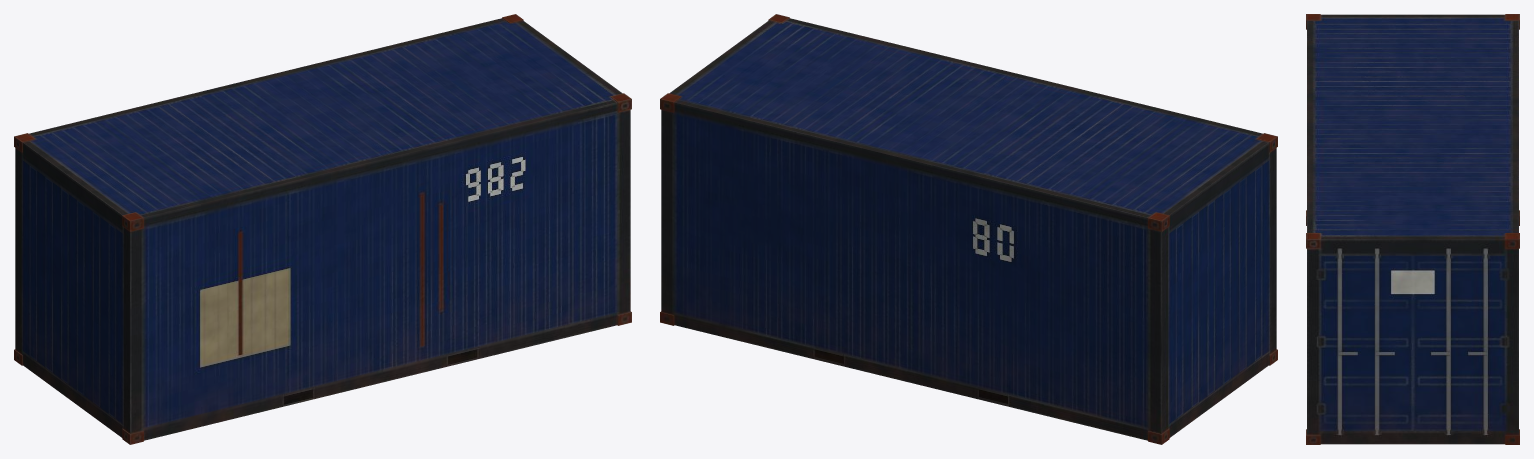
The model's file is shipping_container.glb.
3 renders of one model, left to right at view 1: azimuth 30°, elevation 25°; view 2: azimuth 150°, elevation 25°; view 3: azimuth 270°, elevation 25°, orthographic. The views are drawn at different scales.
Parts seen in each view (by area): view 1: shipping_container; view 2: shipping_container; view 3: shipping_container.
Part boxes in pixels (x1=…): shipping_container: x1=14, y1=14, x2=631, y2=444; shipping_container: x1=660, y1=14, x2=1277, y2=444; shipping_container: x1=1306, y1=14, x2=1519, y2=444.
Bounding box in the file's own units: 6.11 × 2.6 × 2.45.
Materials: 1 (1 with a texture image).
